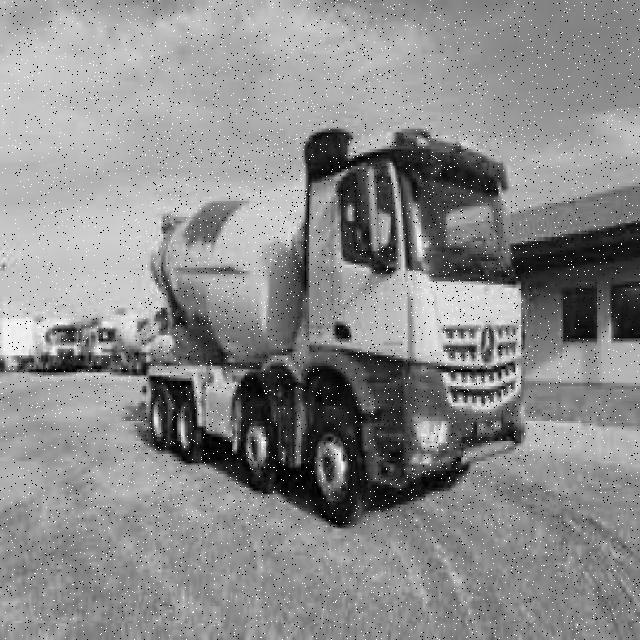Concrete Mixer: (146, 129, 528, 529)
